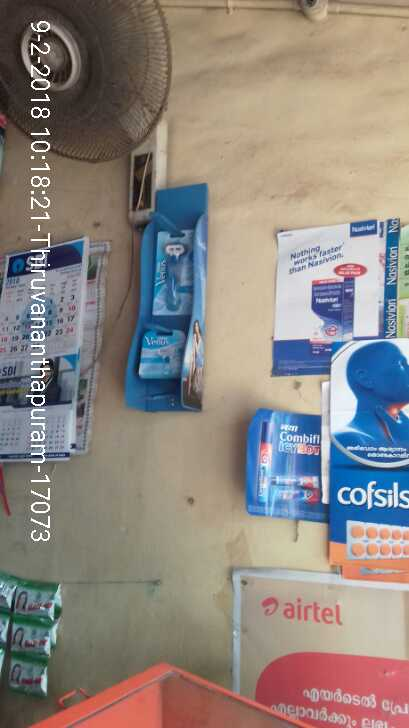venus: (147, 226, 199, 318), (133, 323, 191, 379)
